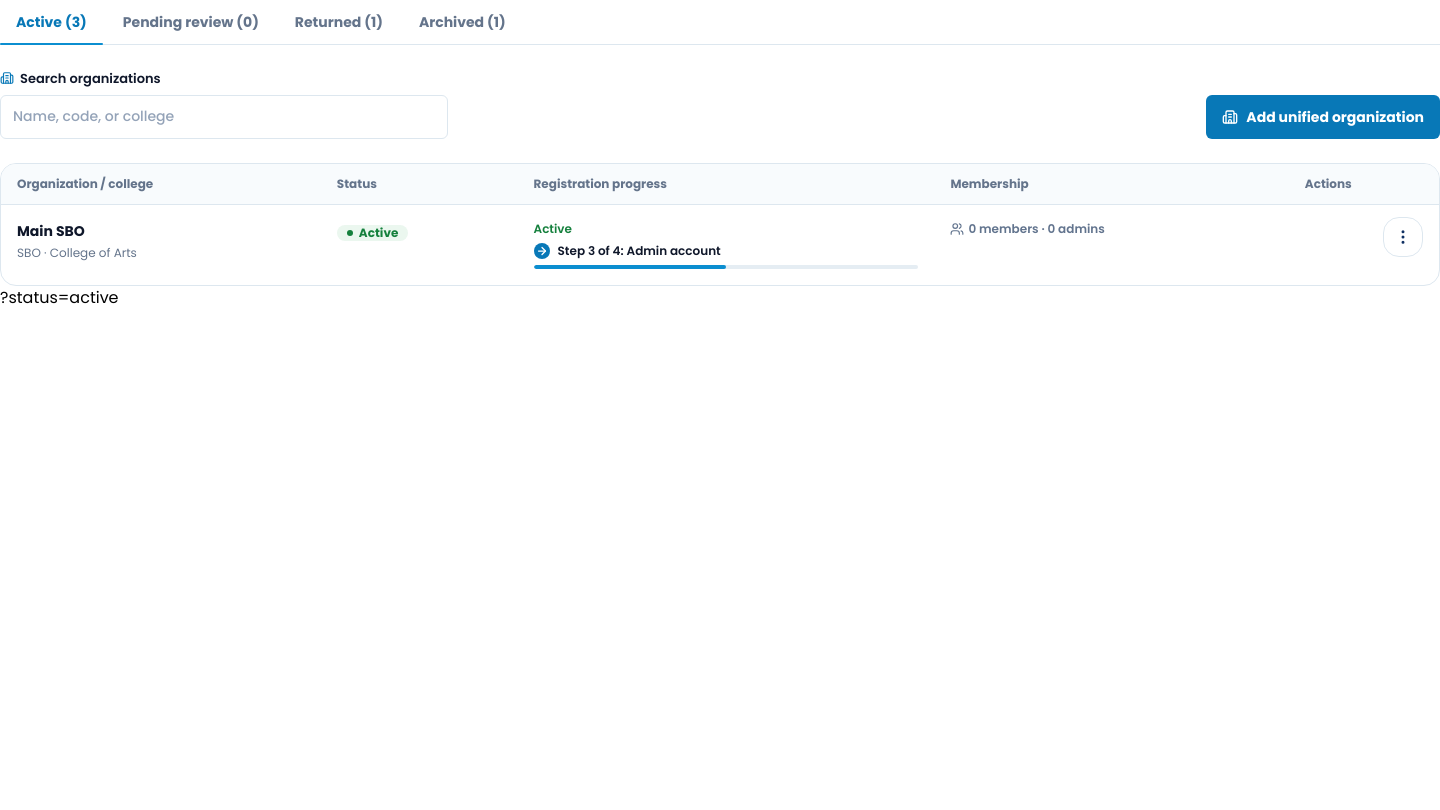
Scenario: SystemOrganizationsPage › keeps deletion conflicts inside the confirmation dialog
The image size is (1440, 810).
Click the button named "Actions for Main SBO" at [1403, 236], box [1383,216,1423,256]
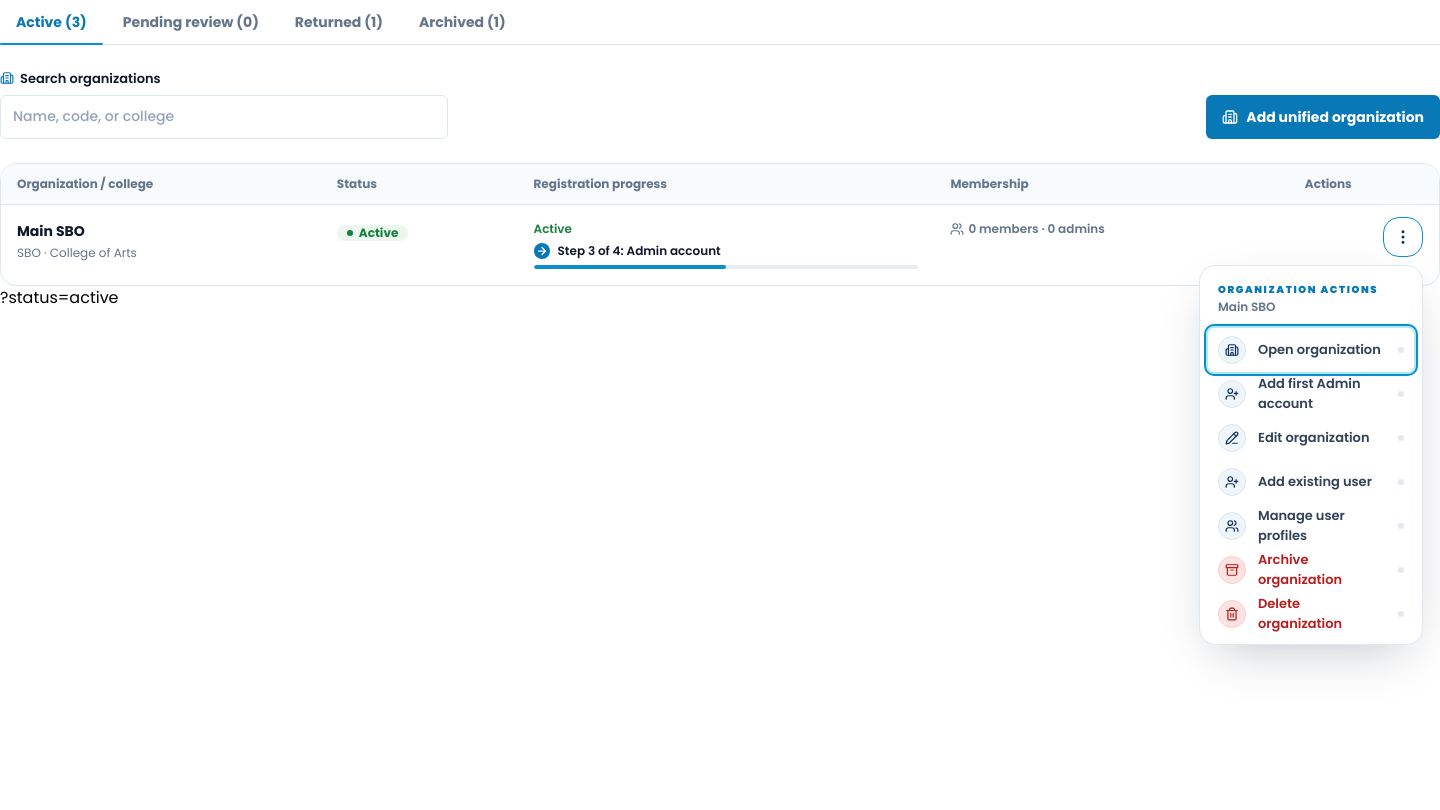
Click the menu item "Delete organization" at [1311, 614], box [1208,592,1414,636]
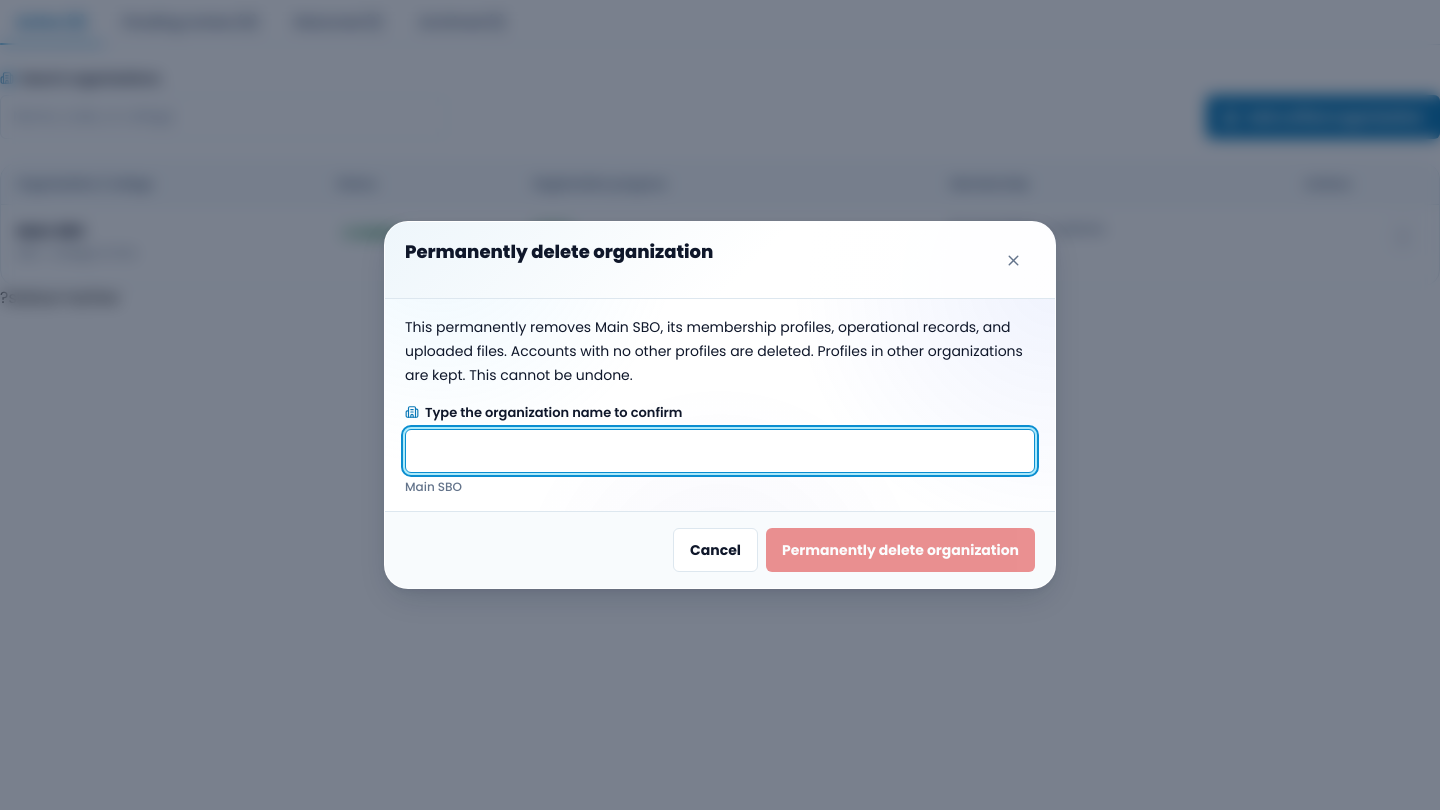
Type "Main SBO" into the field labelled "Type the organization name to confirm" at [720, 451], box [405,429,1035,473]
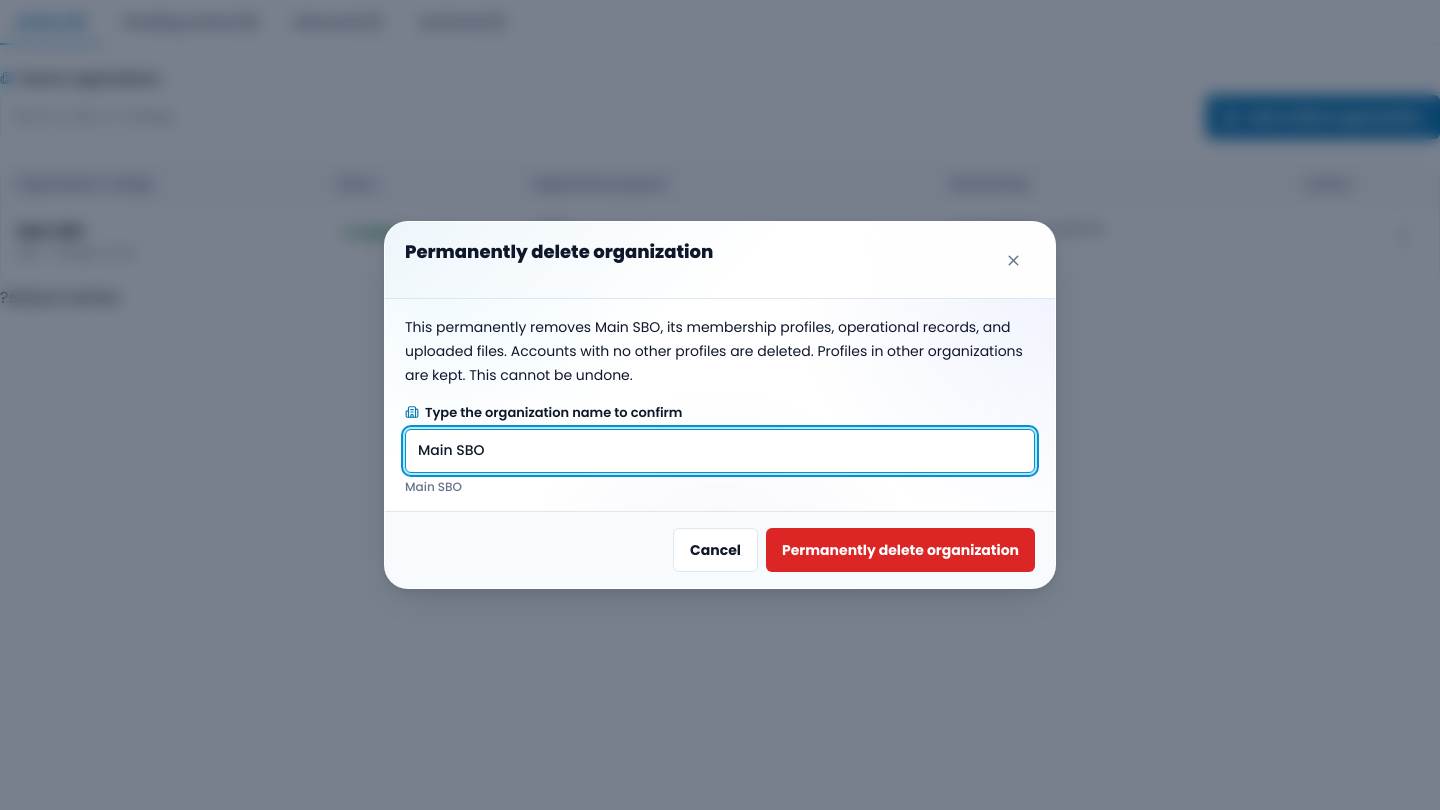
Click the button "Permanently delete organization" at [900, 550], box [766,528,1035,572]
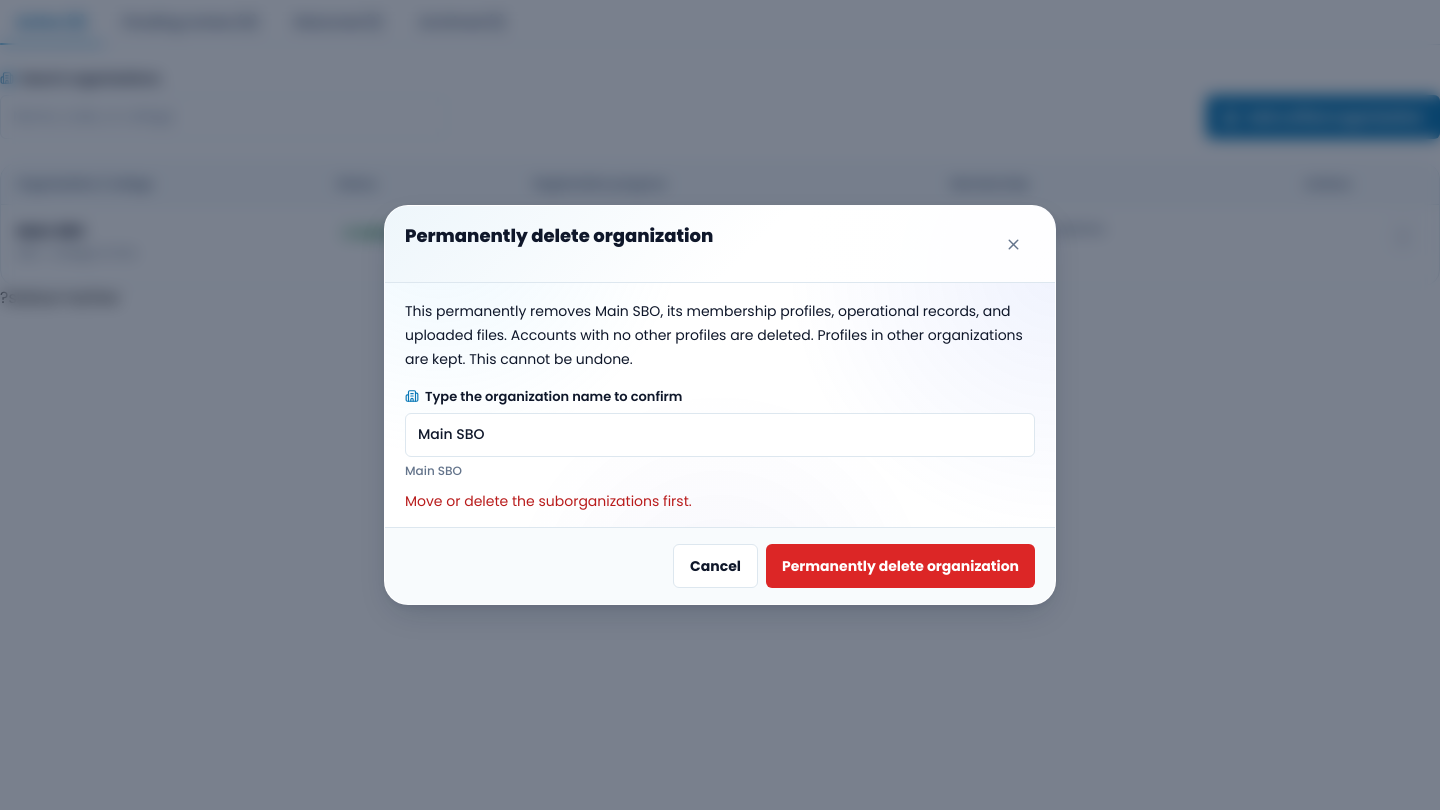
Expected: the dialog "Permanently delete organization" is shown, [384,205,1056,605]
Expected: the message reads "Move or delete the suborganizations first.", [405,491,692,511]
